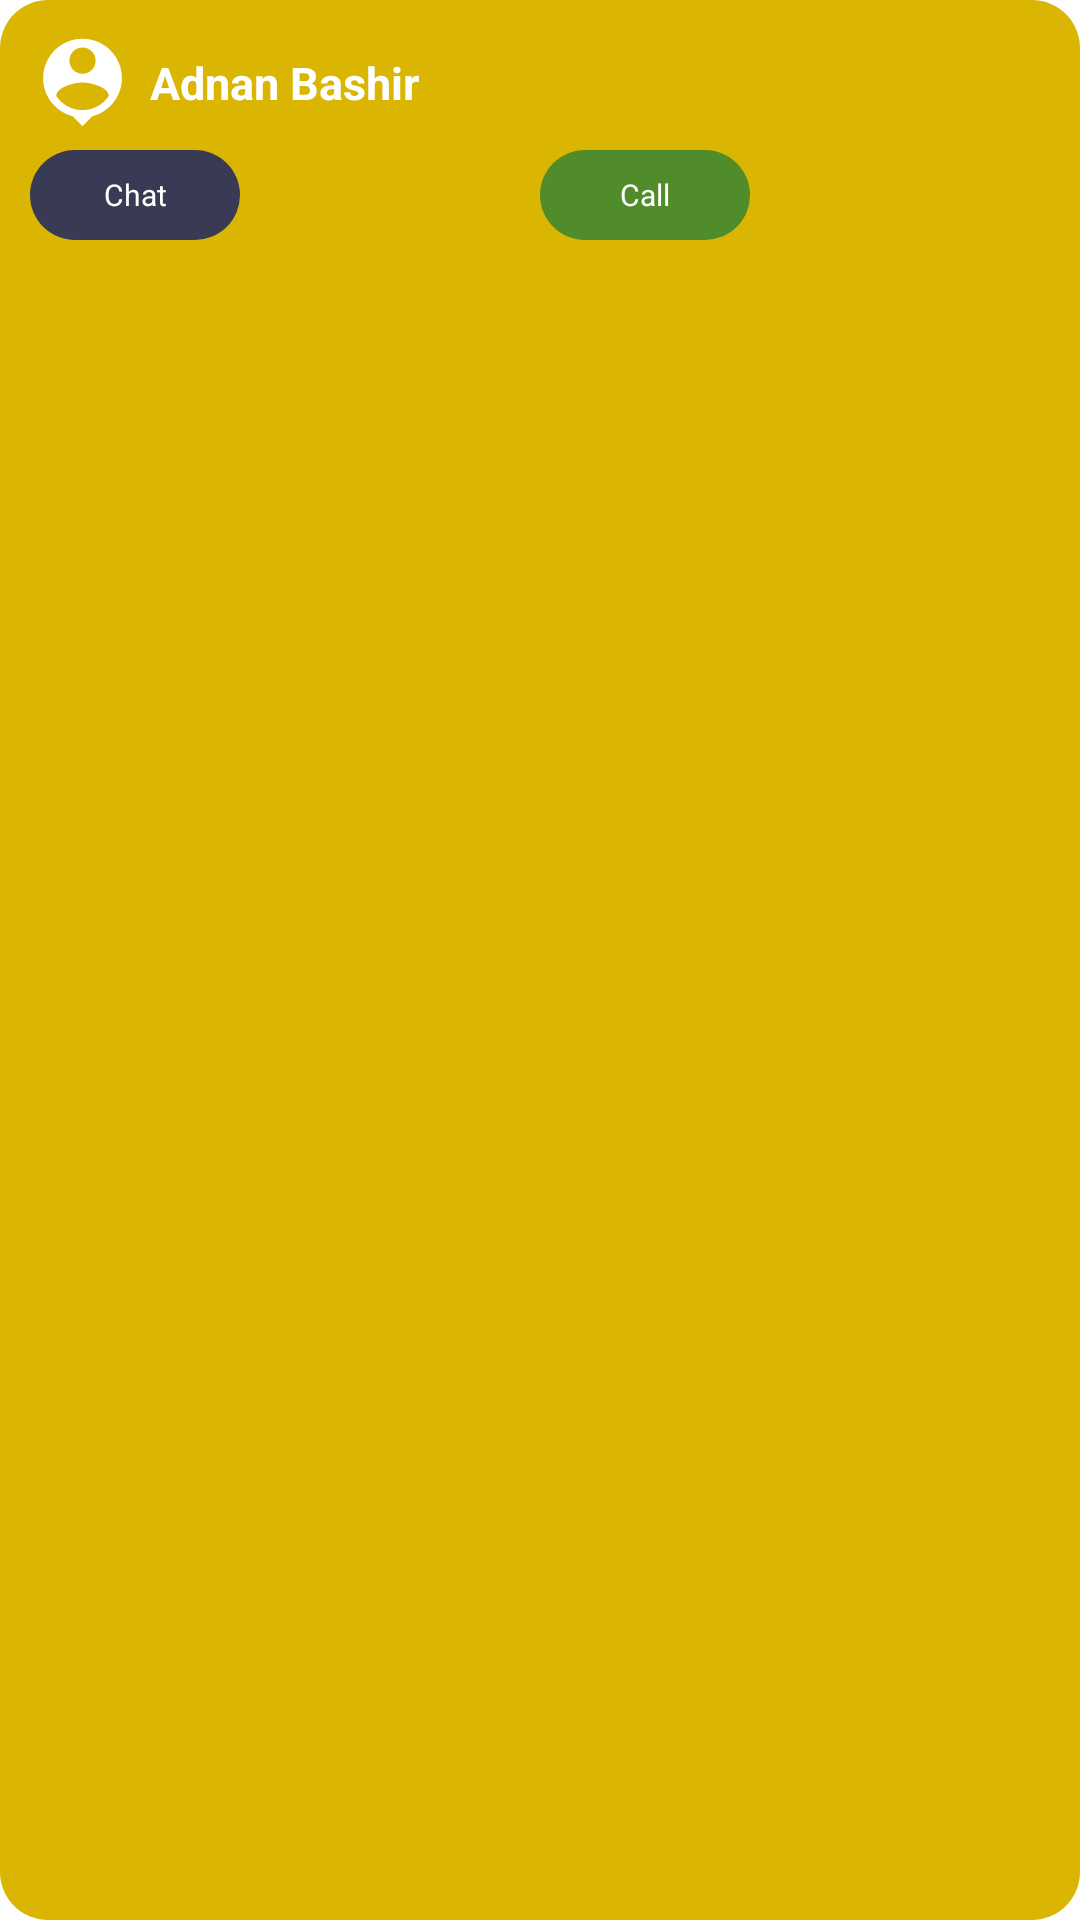

Screen size 1080w x 1920h. Icon name, then its box in pixels as detection(x1, y1, x2, y2):
person pin: detection(43, 38, 122, 126)
